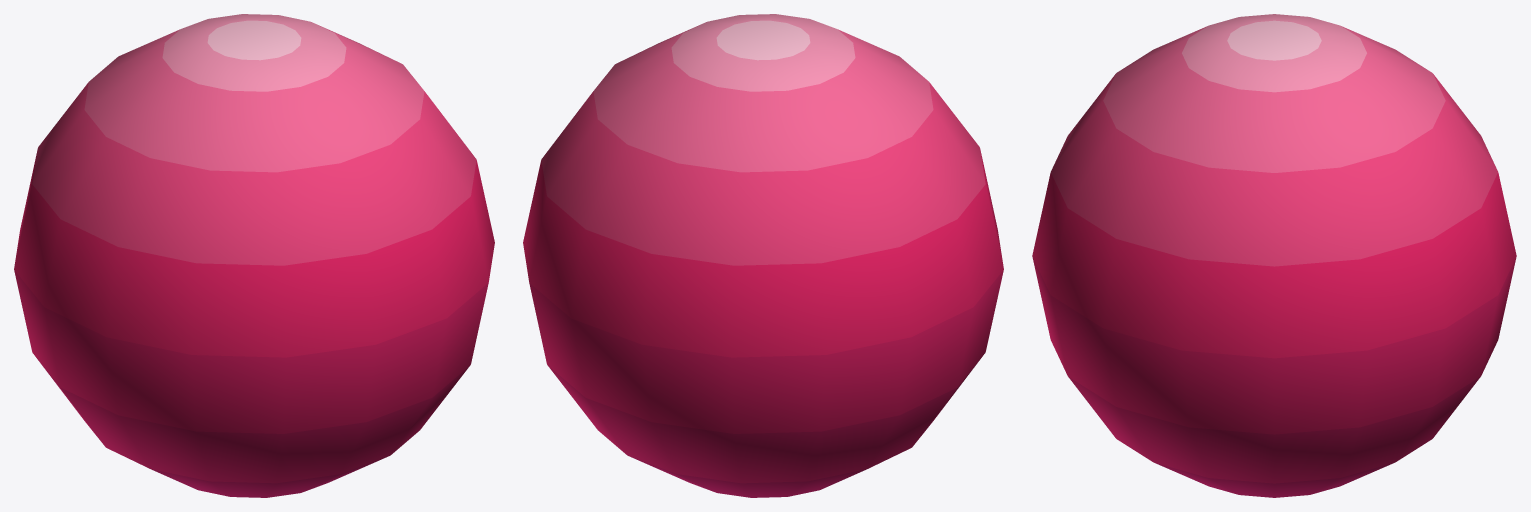
File: Ball_4.fbx
The picture shows the model from 3 angles, left to right: view 1: azimuth 30°, elevation 25°; view 2: azimuth 150°, elevation 25°; view 3: azimuth 270°, elevation 25°; orthographic projection.
Visible parts, largest first — view 1: Ball_4; view 2: Ball_4; view 3: Ball_4.
Boxes of the visible parts, x1,y1,x2,y2 form: Ball_4: (14,14,494,497); Ball_4: (523,14,1003,497); Ball_4: (1032,14,1516,497).
Bounding box in the file's own units: 23.86 × 23.4 × 23.86.
Materials: 1 (1 with a texture image).
